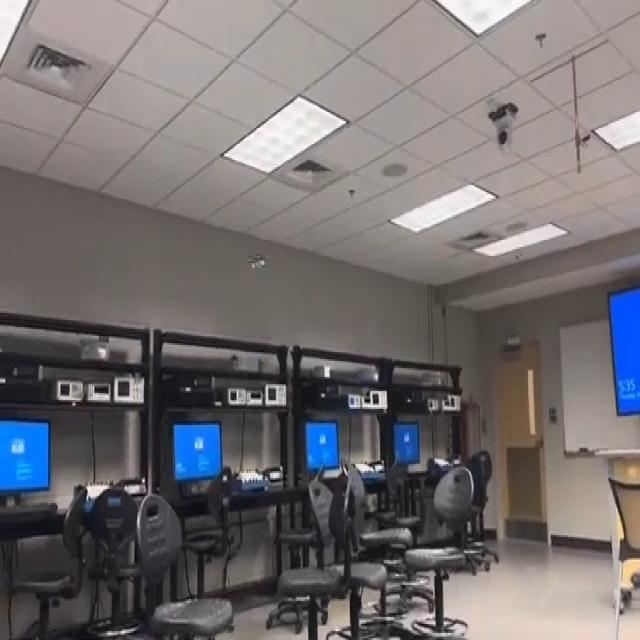drone: (239, 240, 272, 281)
